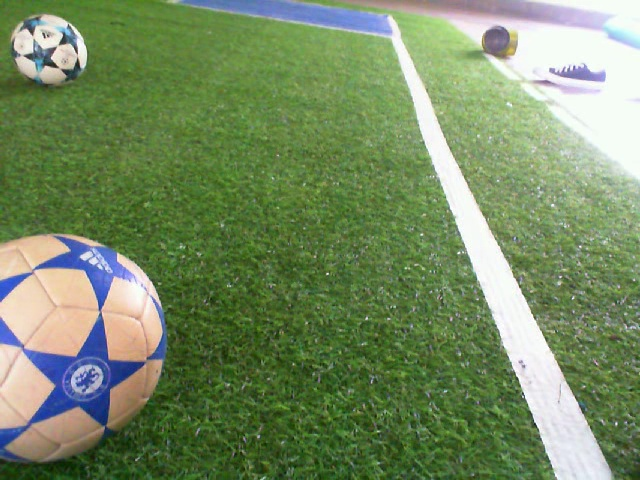ball: (1, 228, 171, 468), (7, 11, 90, 91)
